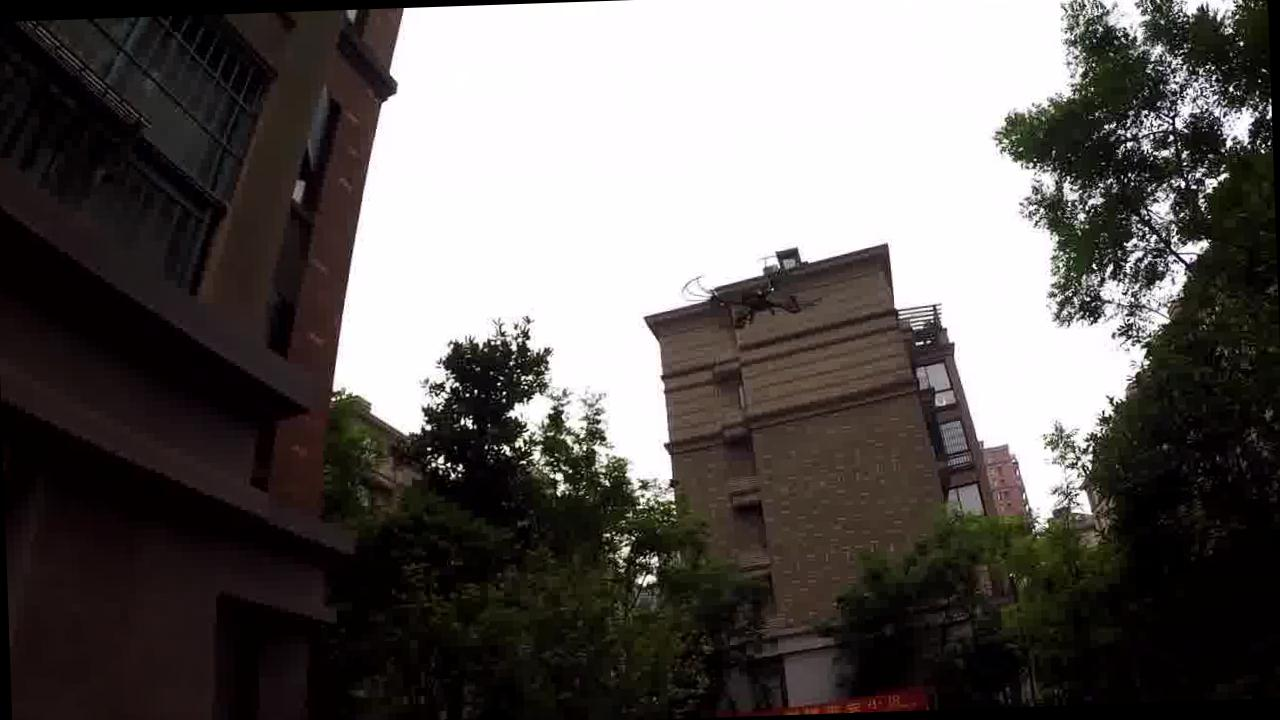drone: (648, 252, 842, 339)
